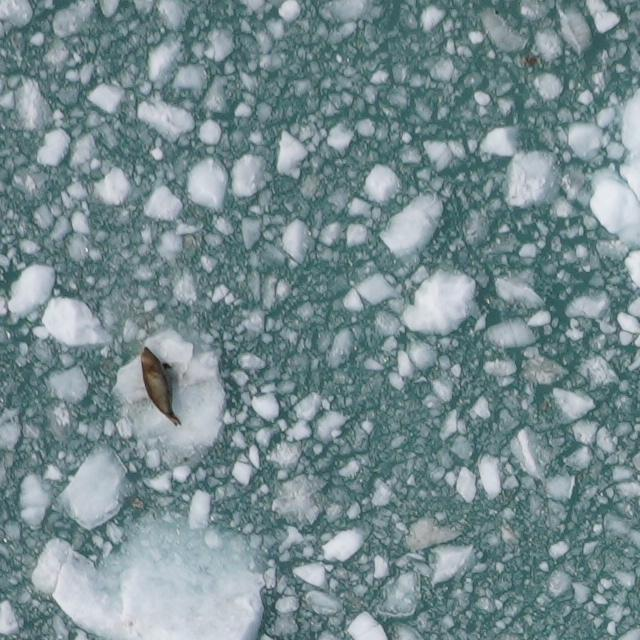seal: (137, 342, 182, 431)
